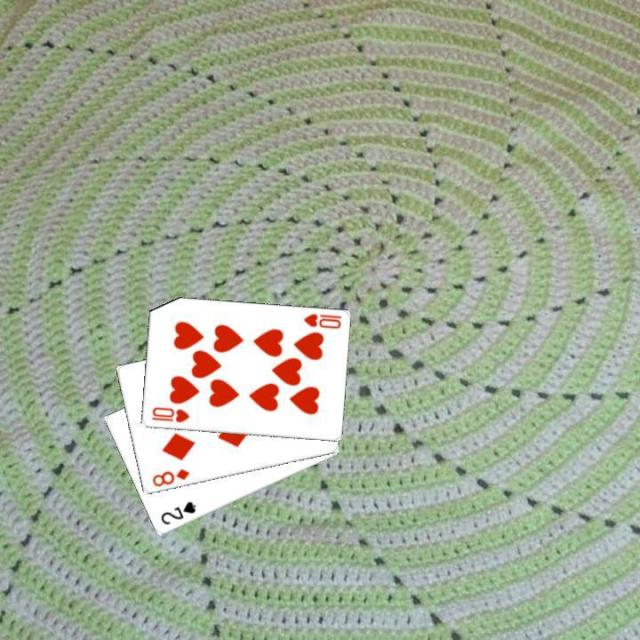10H: (148, 403, 191, 425), (300, 310, 342, 331)
2S: (156, 498, 198, 527)
8D: (149, 465, 191, 489)
